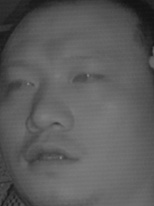eye: (73, 68, 106, 86), (8, 75, 38, 92)
mouth: (20, 138, 83, 175)
